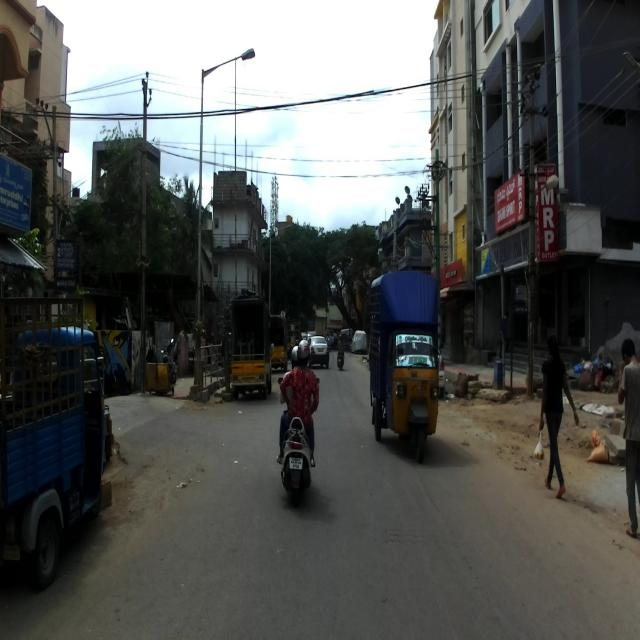autorickshaw: (0, 296, 111, 591), (368, 269, 441, 464)
scooter: (276, 376, 321, 508)
truck: (229, 287, 272, 399)
